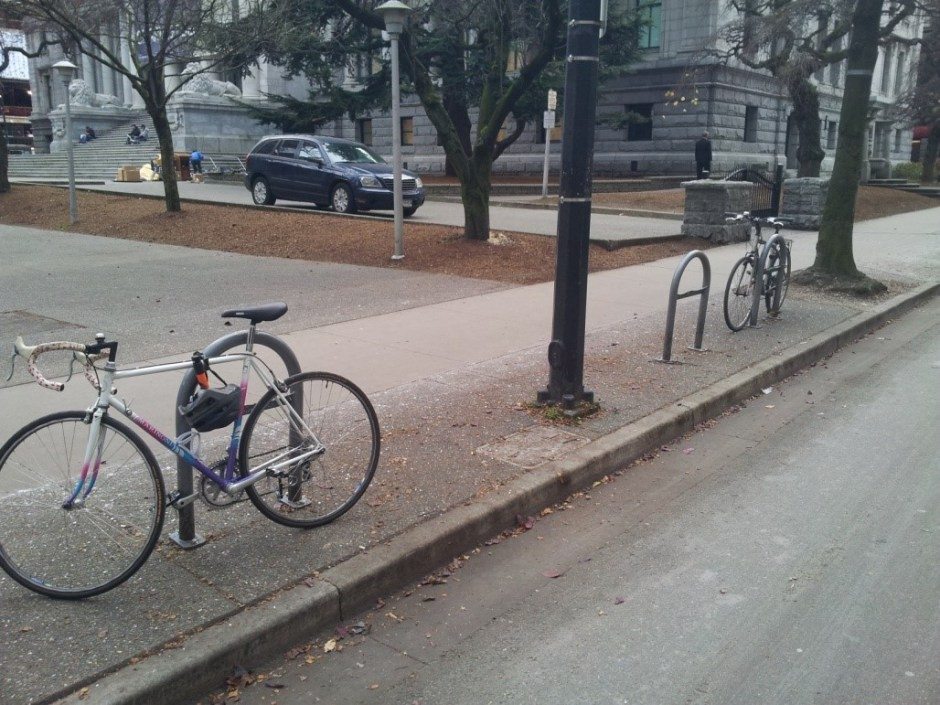bike: (5, 297, 398, 609), (720, 199, 805, 343)
